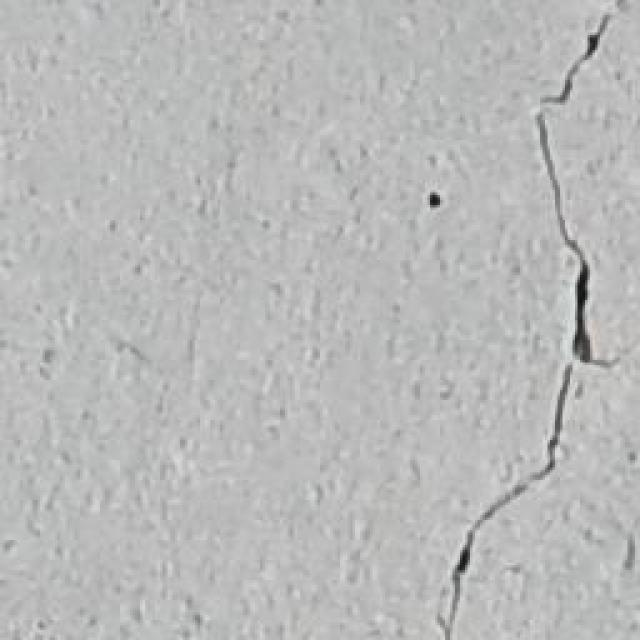concrete-crack: (434, 0, 627, 640), (428, 192, 442, 212)
